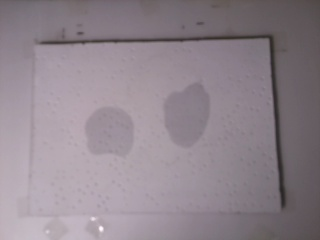Water_detected: (86, 117, 133, 159), (174, 102, 208, 139)
